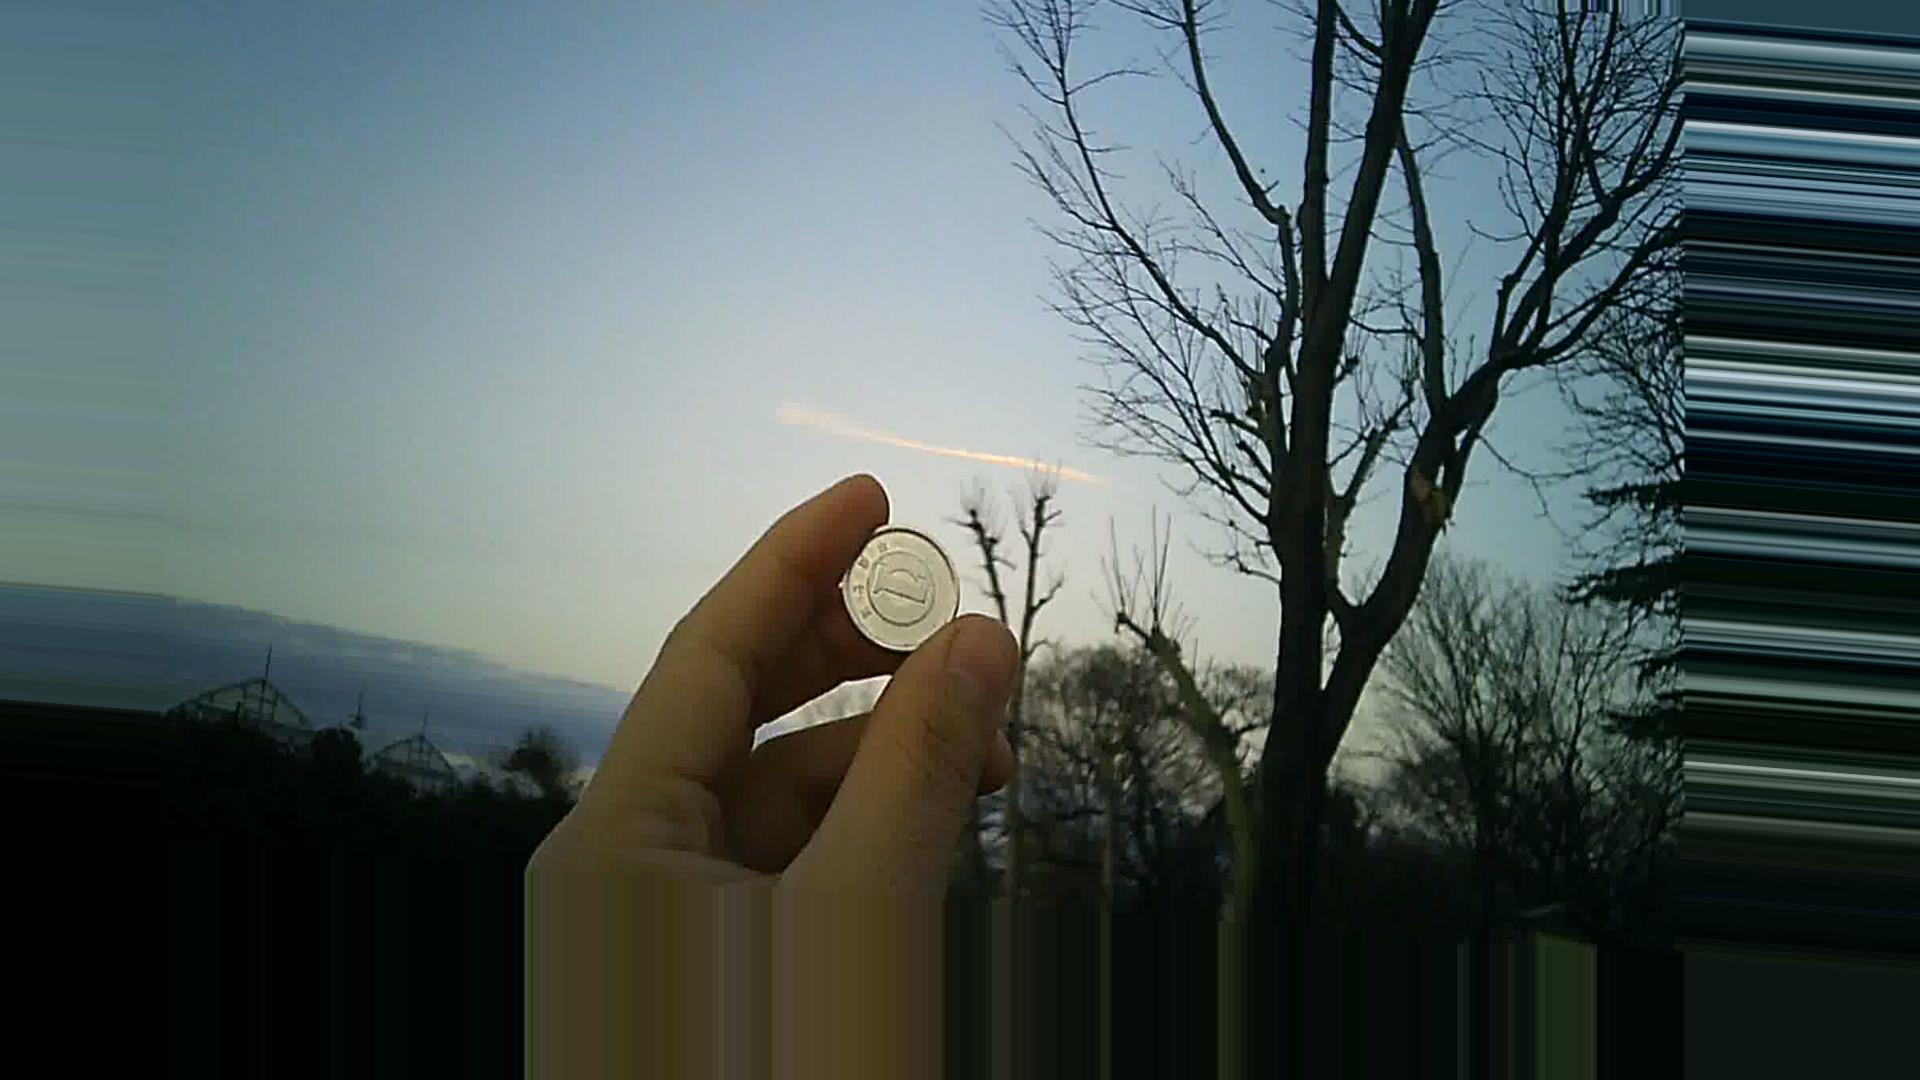1 Yen: (825, 521, 975, 662)
